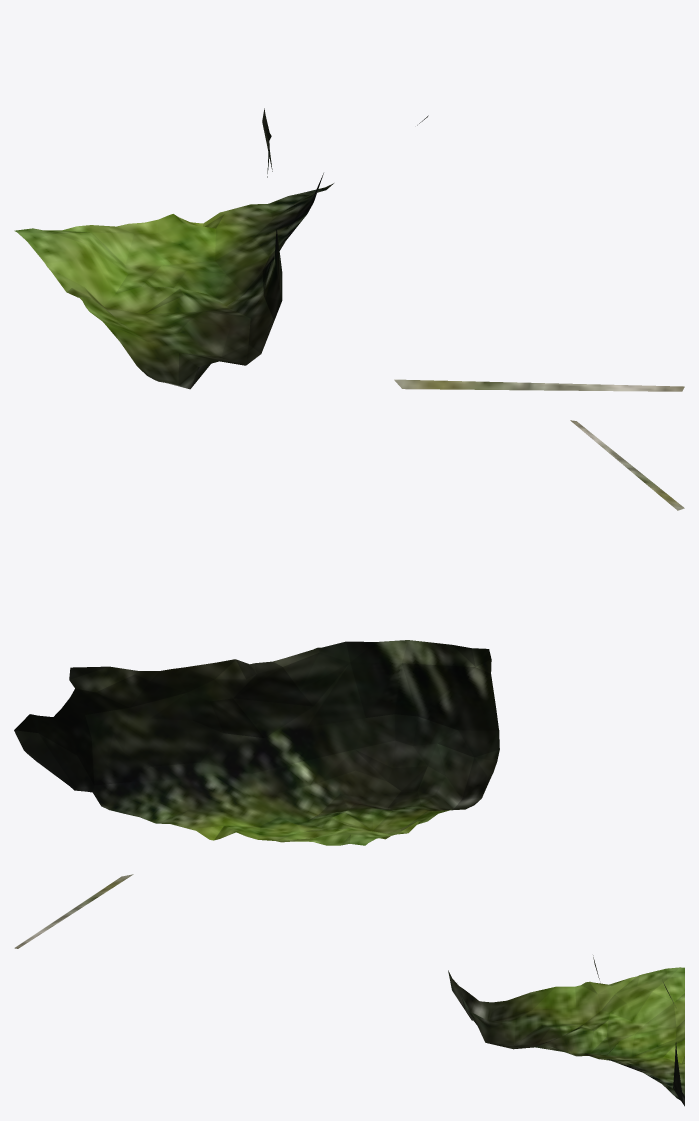
The picture shows the model from 3 angles, top to bottom: view 1: azimuth 30°, elevation 25°; view 2: azimuth 150°, elevation 25°; view 3: azimuth 270°, elevation 25°; orthographic projection. The views are drawn at different scales.
Bounding box in the file's own units: 1.75 × 0.7501 × 3.29.
1 material, 1 textured.
